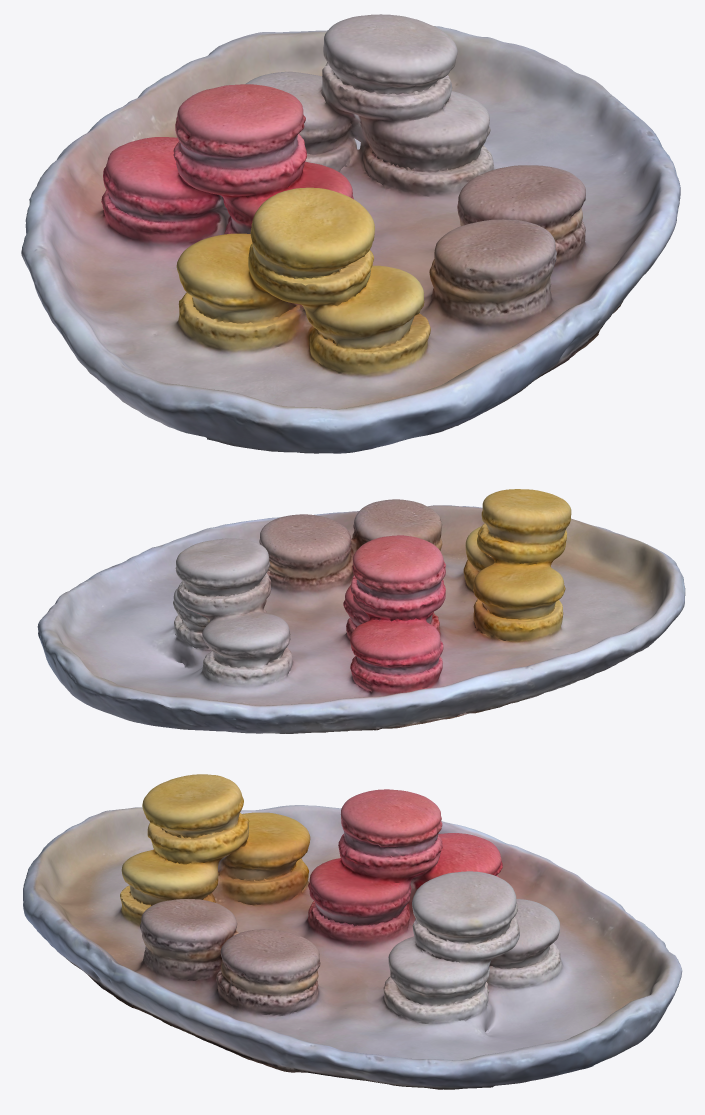
Rendered from shirin.latifeh.akharin.glb.
The picture shows the model from 3 angles, top to bottom: view 1: azimuth 30°, elevation 25°; view 2: azimuth 150°, elevation 25°; view 3: azimuth 270°, elevation 25°; orthographic projection. The views are drawn at different scales.
Visible parts, largest first — view 1: Object_4; view 2: Object_4; view 3: Object_4.
Boxes of the visible parts, bbox=[...] form: Object_4: bbox=[21, 14, 680, 453]; Object_4: bbox=[37, 489, 685, 733]; Object_4: bbox=[23, 774, 682, 1089].
Size of the model in its own units: 0.2657 by 0.0644 by 0.2813.
Materials: 2 (1 with a texture image).
